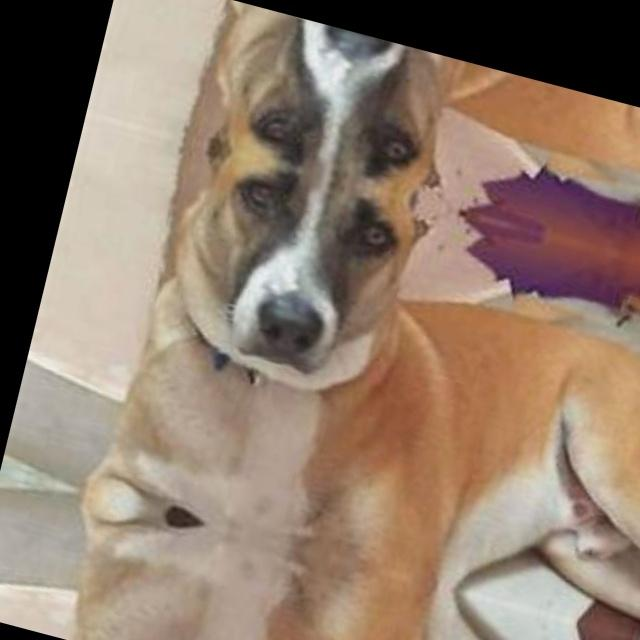dog: (71, 132, 640, 640), (157, 0, 640, 286), (37, 488, 640, 640)
